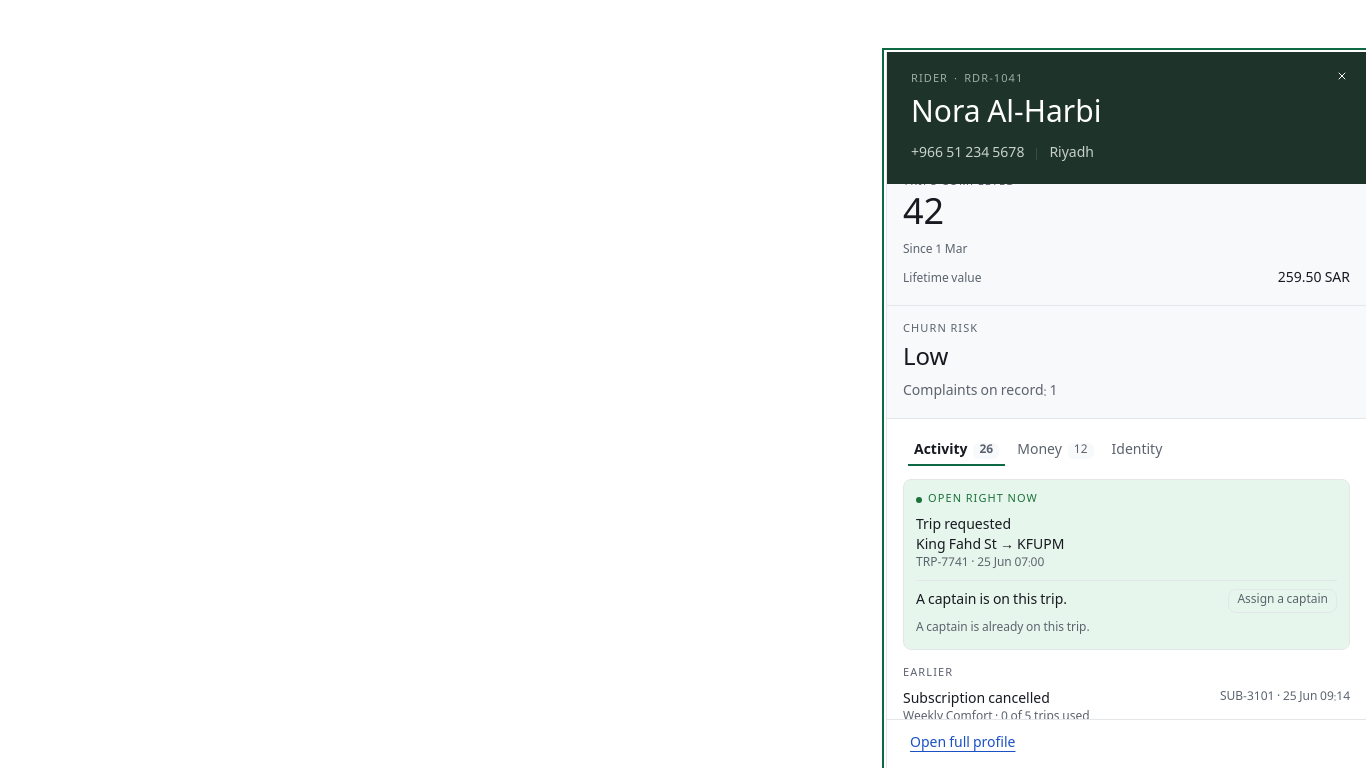
it: content — the record renders, in the arrangement the rider sheet declares › says which movements are outside the wallet balance
This screenshot has width=1366, height=768.
(page scrolled)
Step 1. Click the tab "Money 12" → coordinates (1055, 451), box [1010,439,1100,463]
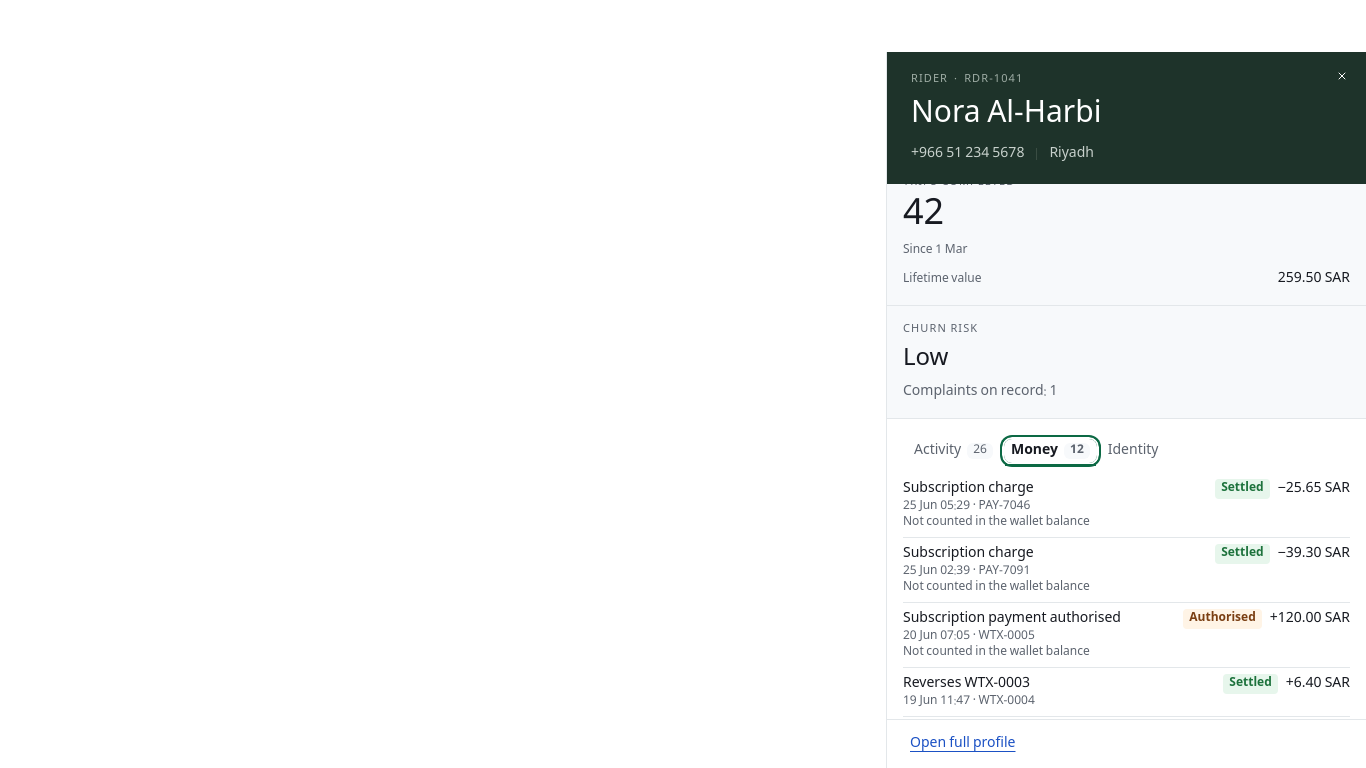
Result: the text "Not counted in the wallet balance" below "25 Jun 05:29" is shown at [903,512,1090,533]
